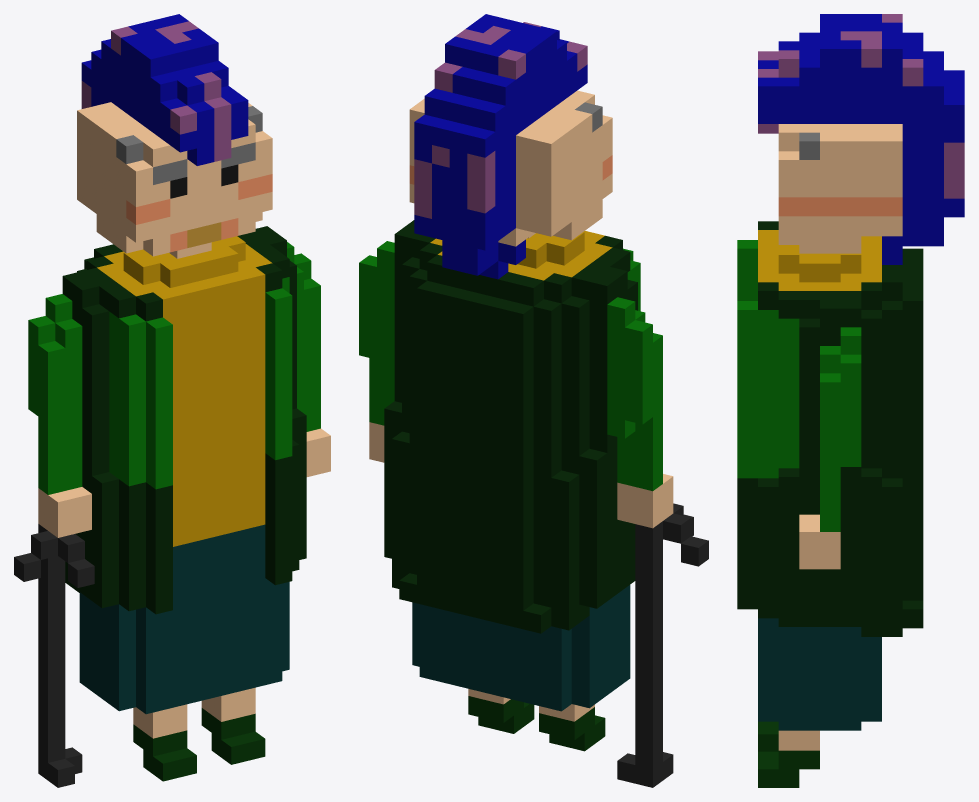
The model's file is Granny-0.obj.
3 renders of one model, left to right at view 1: azimuth 30°, elevation 25°; view 2: azimuth 150°, elevation 25°; view 3: azimuth 270°, elevation 25°, orthographic. The views are drawn at different scales.
Bounding box in the file's own units: 1.8 × 3.9 × 1.1.
Materials: 1 (1 with a texture image).
